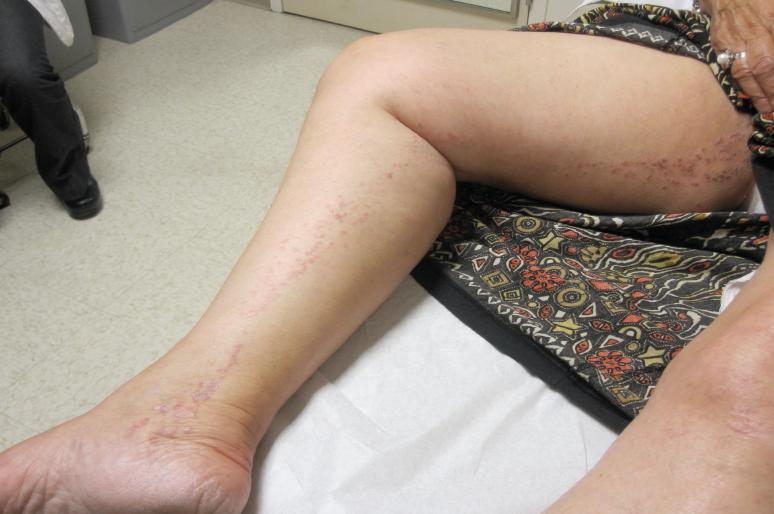linear lichen planus: (164, 329, 270, 422)
